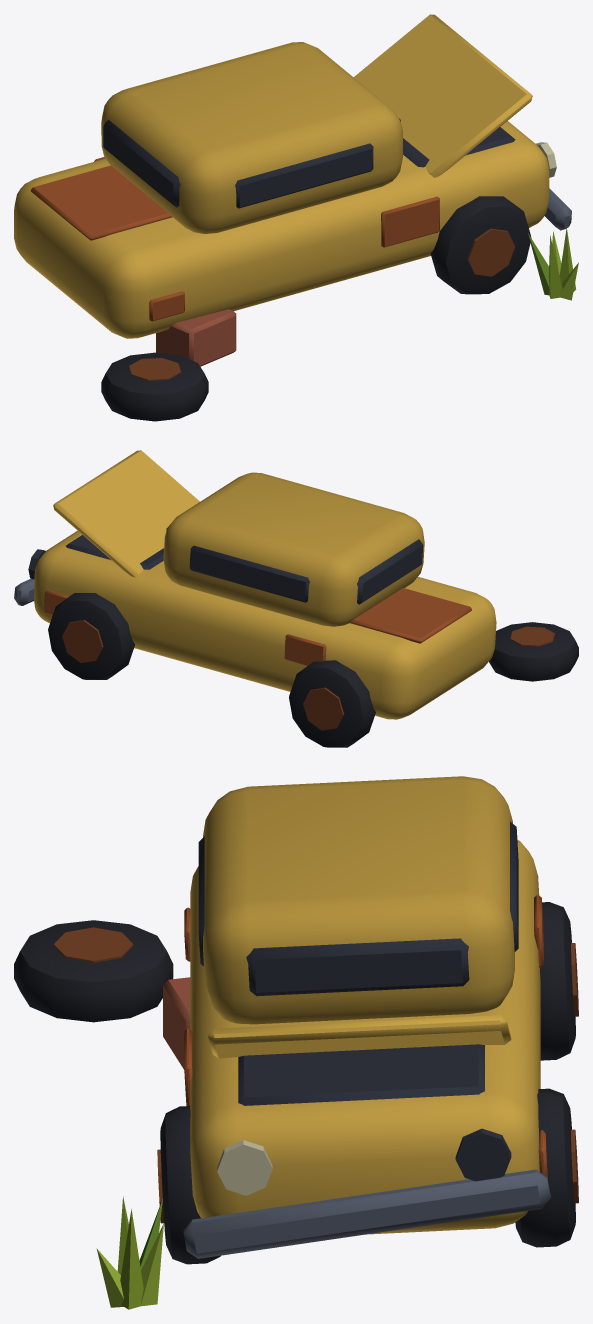
Rendered from p_wreck_1.glb.
3 renders of one model, top to bottom at view 1: azimuth 30°, elevation 25°; view 2: azimuth 150°, elevation 25°; view 3: azimuth 270°, elevation 25°, orthographic. The views are drawn at different scales.
Visible parts, largest first — view 1: body; view 2: body; view 3: body.
Part boxes in pixels (<box>): body: <box>14,14,578,421</box>; body: <box>14,450,578,747</box>; body: <box>14,776,578,1309</box>.
Size of the model in its own units: 4.28 by 1.69 by 2.84.
